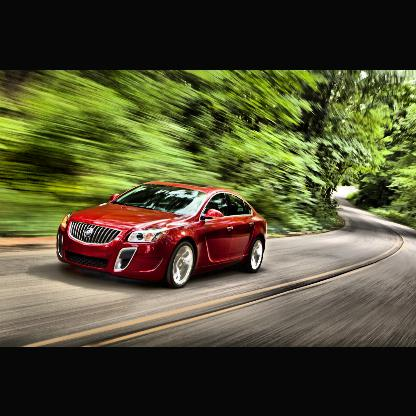Buick Regal GS 2012: (56, 179, 271, 291)
